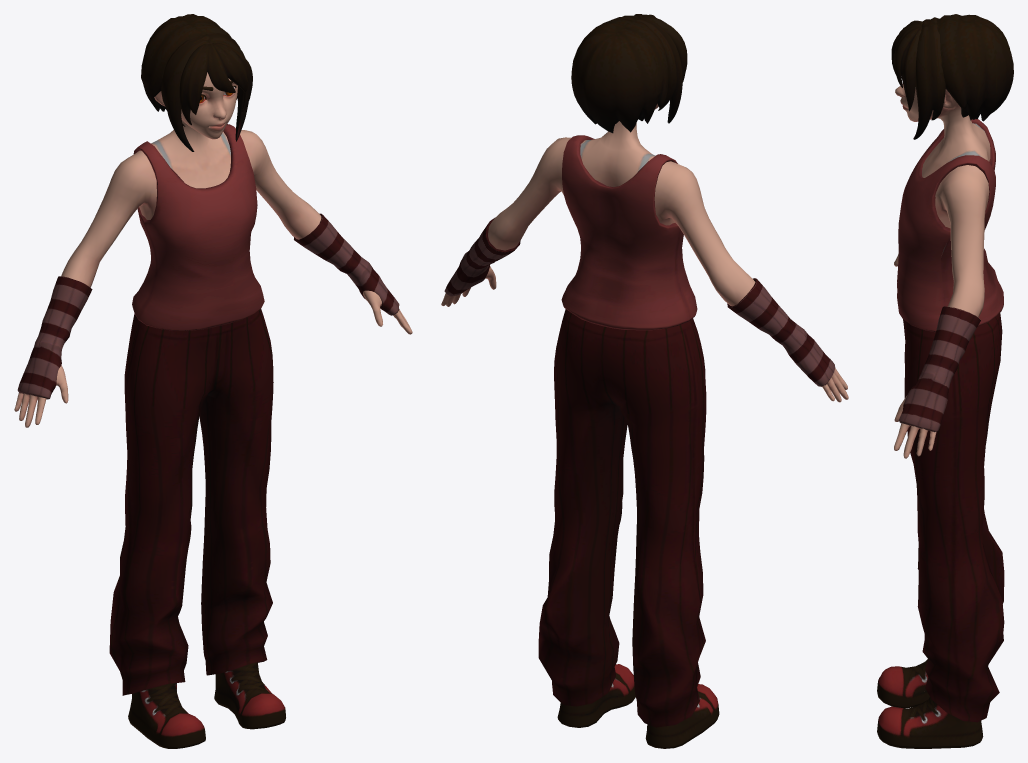
File: Asian Woman_Mesh.obj
The picture shows the model from 3 angles, left to right: view 1: azimuth 30°, elevation 25°; view 2: azimuth 150°, elevation 25°; view 3: azimuth 270°, elevation 25°; orthographic projection. The views are drawn at different scales.
Parts seen in each view (by area): view 1: Asian Woman_Mesh_0; view 2: Asian Woman_Mesh_0; view 3: Asian Woman_Mesh_0.
Part boxes in pixels (x1=…): Asian Woman_Mesh_0: x1=14, y1=14, x2=412, y2=748; Asian Woman_Mesh_0: x1=441, y1=14, x2=848, y2=748; Asian Woman_Mesh_0: x1=877, y1=14, x2=1013, y2=748.
Bounding box in the file's own units: 1.06 × 1.8 × 0.3191.
1 material, 1 textured.
